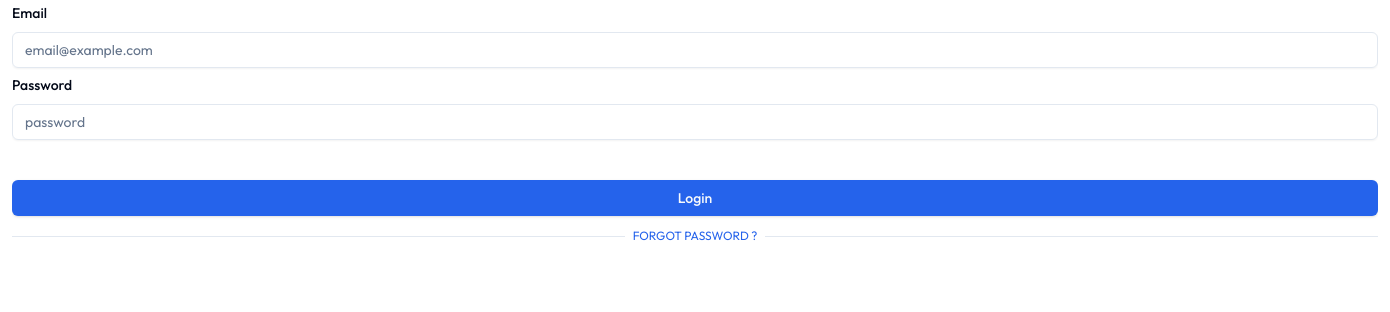
Test: LoginForm › shows validation errors when submitting empty fields
The width and height of the screenshot is (1390, 312).
Click the button "Login" at point(695, 198), box [12,180,1378,216]
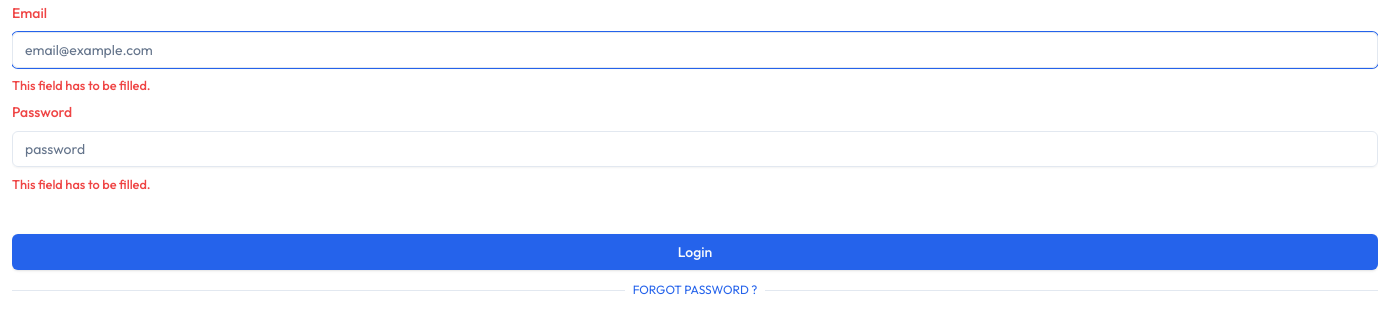
Result: the text "This field has to be filled." is shown 2 times at [12,77,151,93]; [12,176,151,192]
